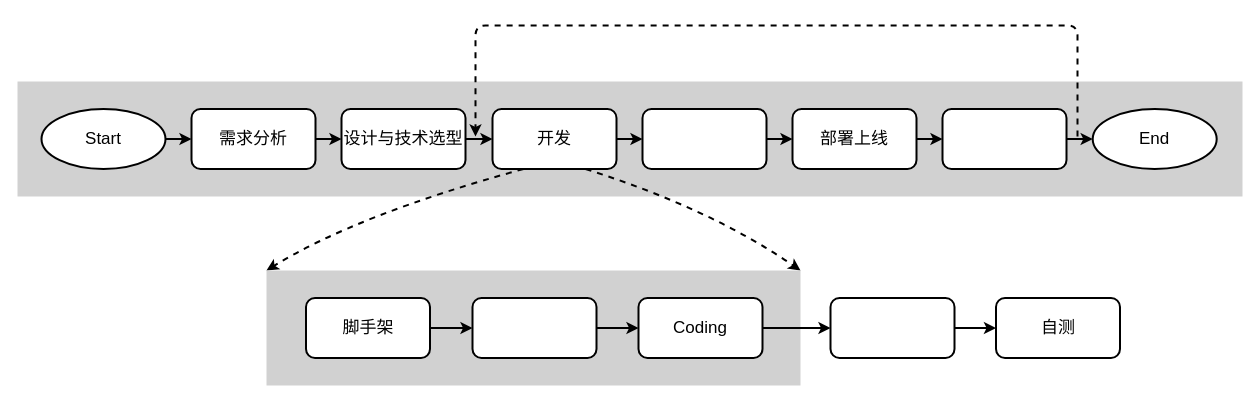
Image size: 1259x402. Some labels were removed from this diagram. Here are the shapes that lost their labels. From the top down, the box of each, then its label:
(641, 108, 767, 170): 联调
(941, 108, 1067, 170): 维护
(471, 296, 597, 358): Mock
(829, 296, 955, 358): Code Review
